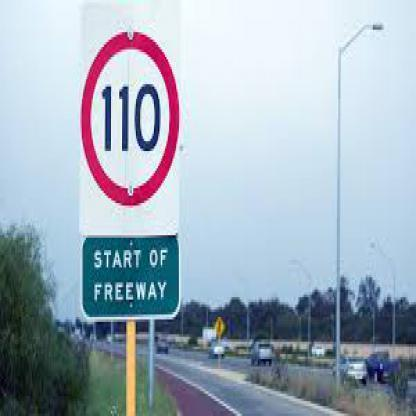Speed Limit 110: (82, 32, 178, 204)
